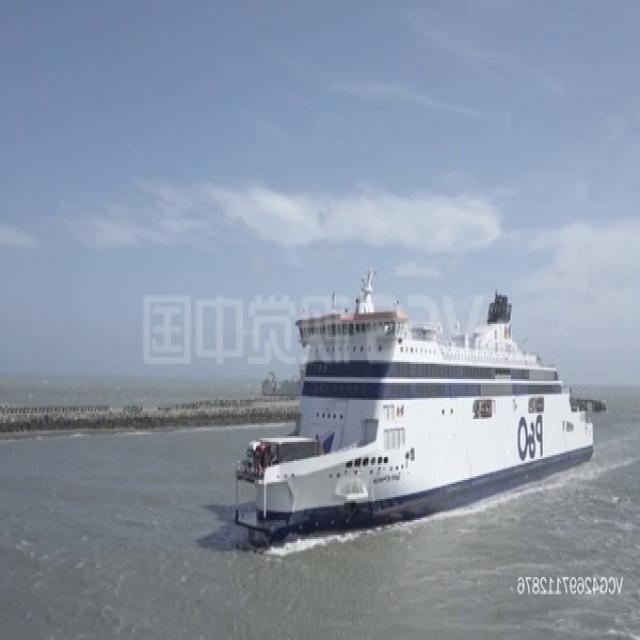passenger ship: (236, 283, 601, 538)
